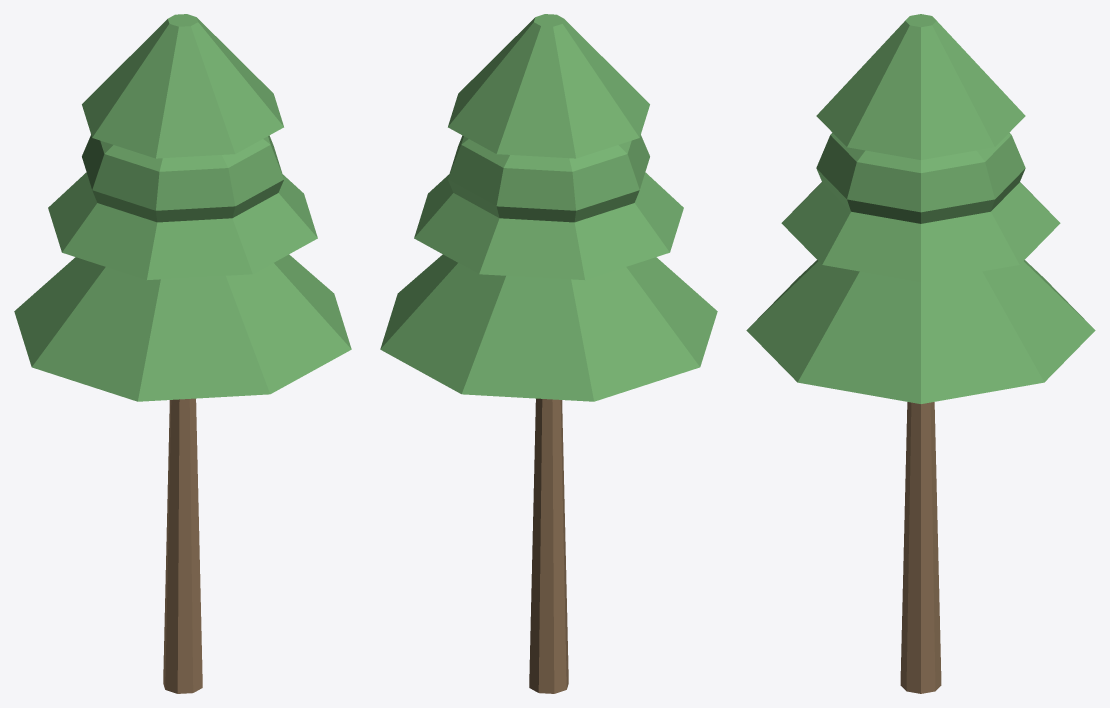
Rendered from deciduous_2.glb.
3 views of the same model, side by side, from view 1: azimuth 30°, elevation 25°; view 2: azimuth 150°, elevation 25°; view 3: azimuth 270°, elevation 25° (orthographic).
Visible parts, largest first — view 1: deciduous_2_foliage_0, deciduous_2_foliage_2, deciduous_2_foliage_1, deciduous_2_top, deciduous_2_trunk; view 2: deciduous_2_foliage_0, deciduous_2_foliage_2, deciduous_2_foliage_1, deciduous_2_top, deciduous_2_trunk; view 3: deciduous_2_foliage_0, deciduous_2_foliage_2, deciduous_2_foliage_1, deciduous_2_top, deciduous_2_trunk.
Boxes of the visible parts, x1=… form: deciduous_2_foliage_0: x1=14, y1=254, x2=351, y2=401; deciduous_2_foliage_2: x1=82, y1=14, x2=283, y2=158; deciduous_2_foliage_1: x1=48, y1=172, x2=317, y2=279; deciduous_2_top: x1=82, y1=135, x2=283, y2=222; deciduous_2_trunk: x1=163, y1=398, x2=202, y2=693; deciduous_2_foliage_0: x1=380, y1=254, x2=717, y2=401; deciduous_2_foliage_2: x1=448, y1=14, x2=649, y2=158; deciduous_2_foliage_1: x1=414, y1=172, x2=683, y2=279; deciduous_2_top: x1=448, y1=135, x2=649, y2=222; deciduous_2_trunk: x1=529, y1=398, x2=568, y2=693; deciduous_2_foliage_0: x1=746, y1=260, x2=1095, y2=403; deciduous_2_foliage_2: x1=816, y1=14, x2=1025, y2=159; deciduous_2_foliage_1: x1=781, y1=182, x2=1060, y2=281; deciduous_2_top: x1=816, y1=133, x2=1025, y2=223; deciduous_2_trunk: x1=900, y1=402, x2=941, y2=693.
Size of the model in its own units: 2.66 by 5.58 by 2.66.
